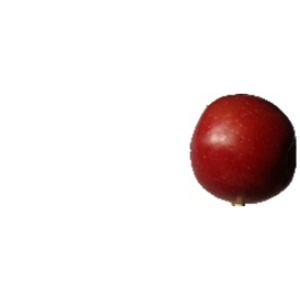maçã braeburn: (188, 91, 297, 205)
